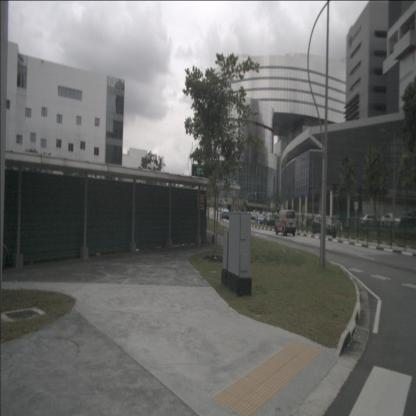vehicle-car: (311, 214, 337, 238), (274, 209, 296, 236), (360, 213, 382, 229), (396, 210, 415, 228), (264, 213, 276, 226), (220, 208, 230, 220), (255, 214, 265, 224), (251, 212, 257, 221)
vehicle-truck: (379, 212, 401, 228)
